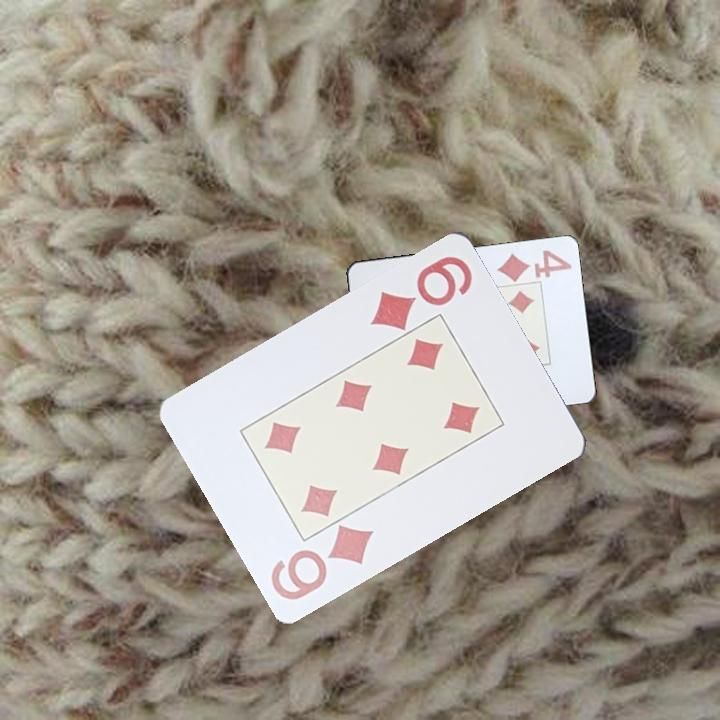4d: (493, 247, 574, 285)
6d: (366, 251, 476, 333), (267, 521, 377, 603)
